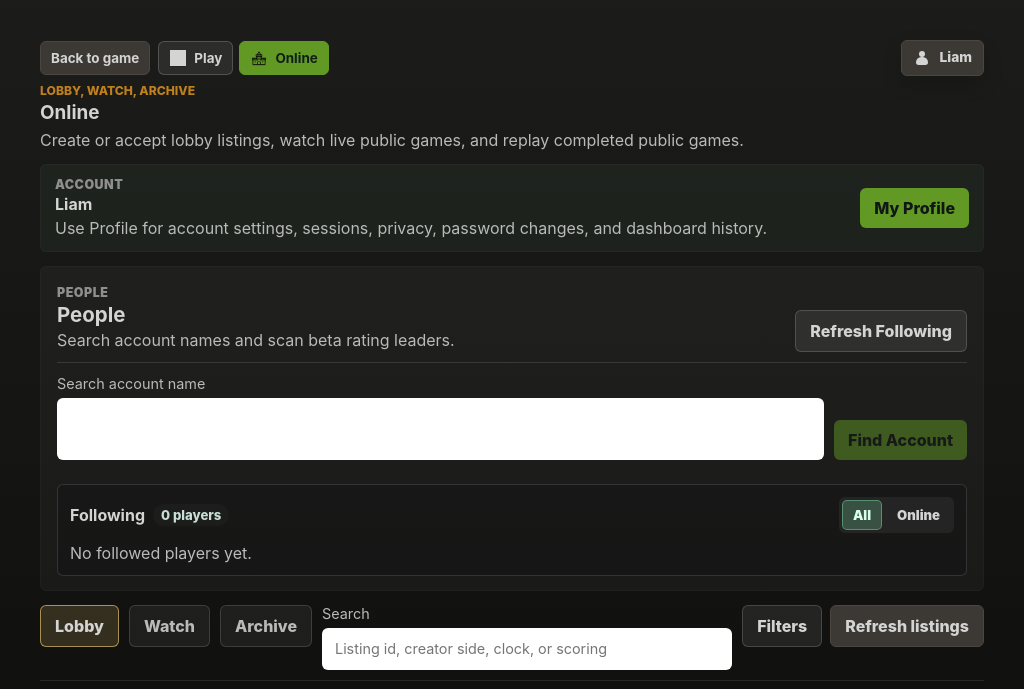
Scenario: OnlineGameBrowser › offers a profile-card rematch from loaded head-to-head account history
The width and height of the screenshot is (1024, 689).
Type "Ada" into the field labelled "Search account name" at (440, 429), box 57,398 -> 824,460
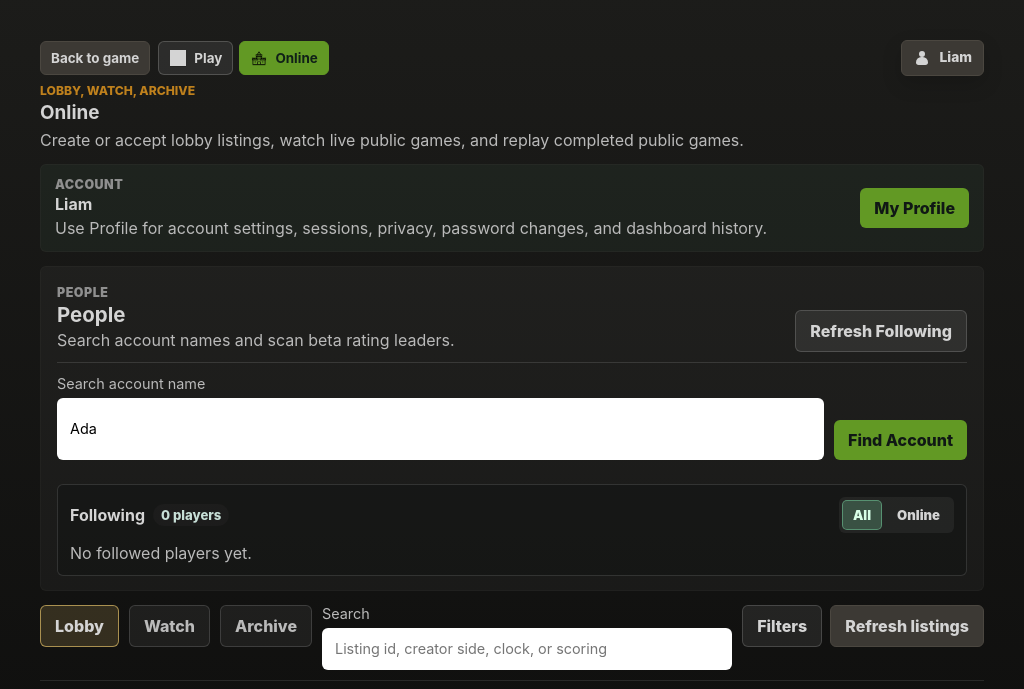
Click the button "Find Account" at (900, 440), box 834,420 -> 967,460
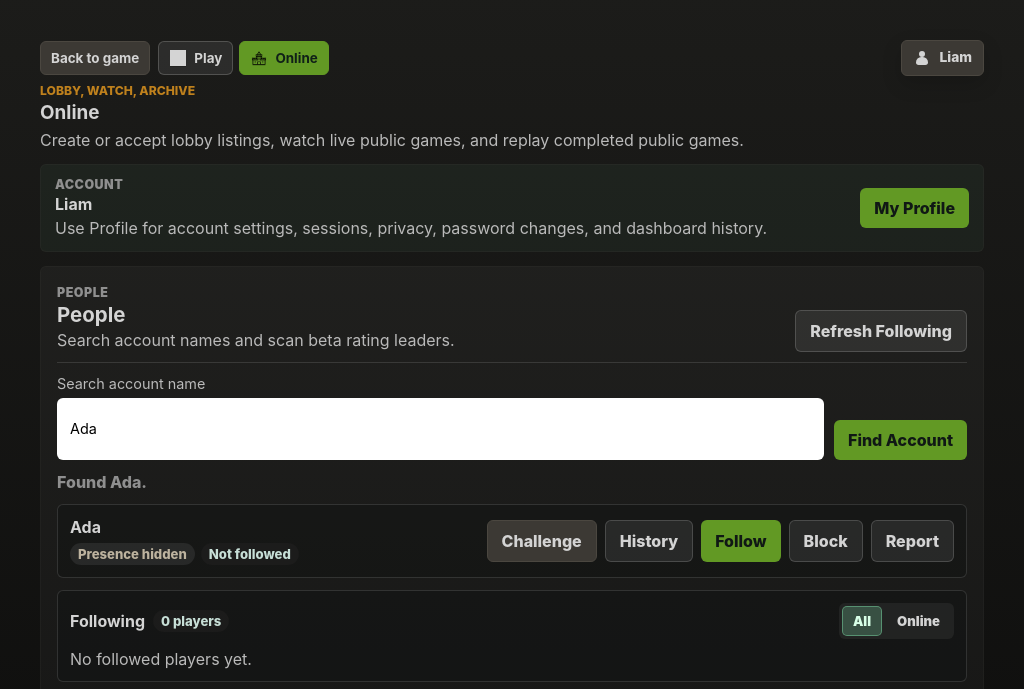
Click the button named "Show Ada game history from profile" at (649, 541), box 605,520 -> 693,562
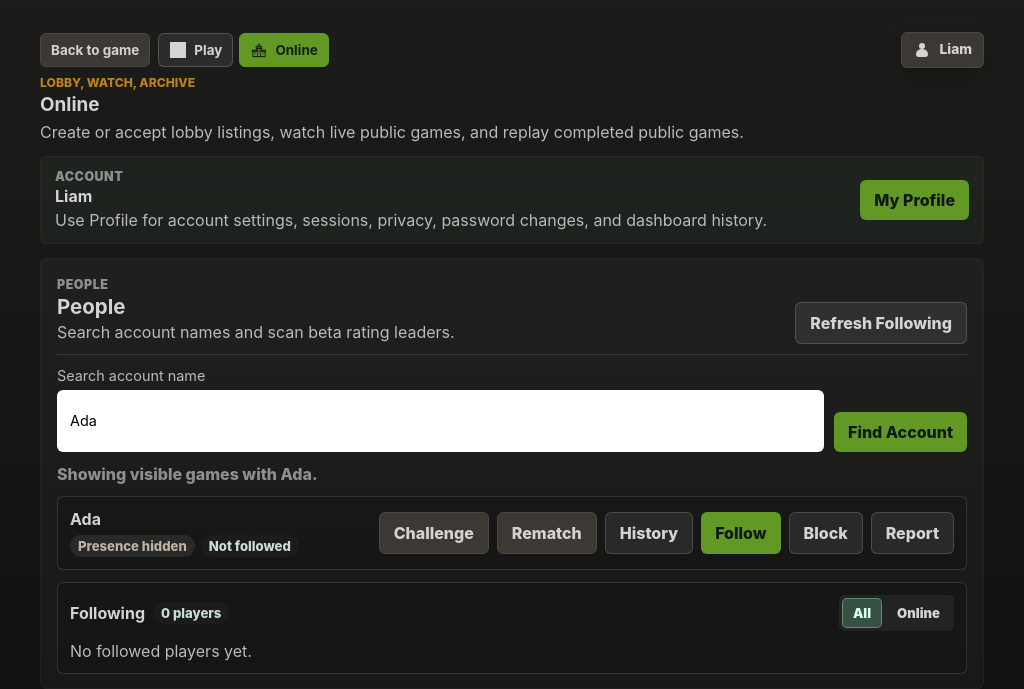
Click the button named "Rematch Ada from latest head-to-head game game_profile_h2h_latest_rematch" at (547, 533), box 497,512 -> 597,554
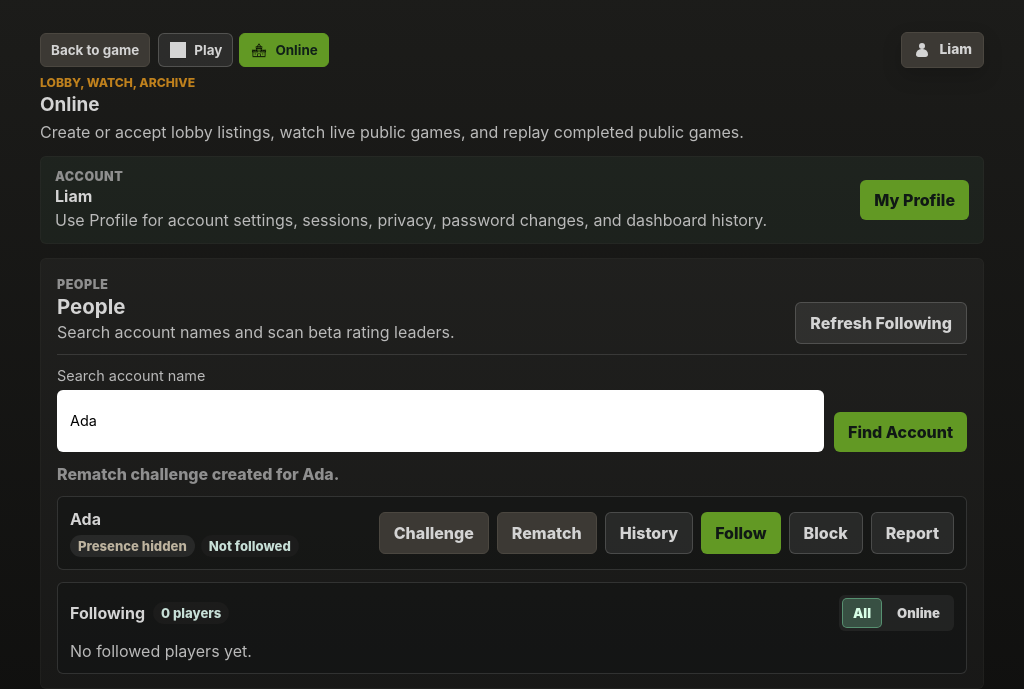
Expected: the text "Rematch challenge created for Ada." is shown, 57,464 -> 339,484
